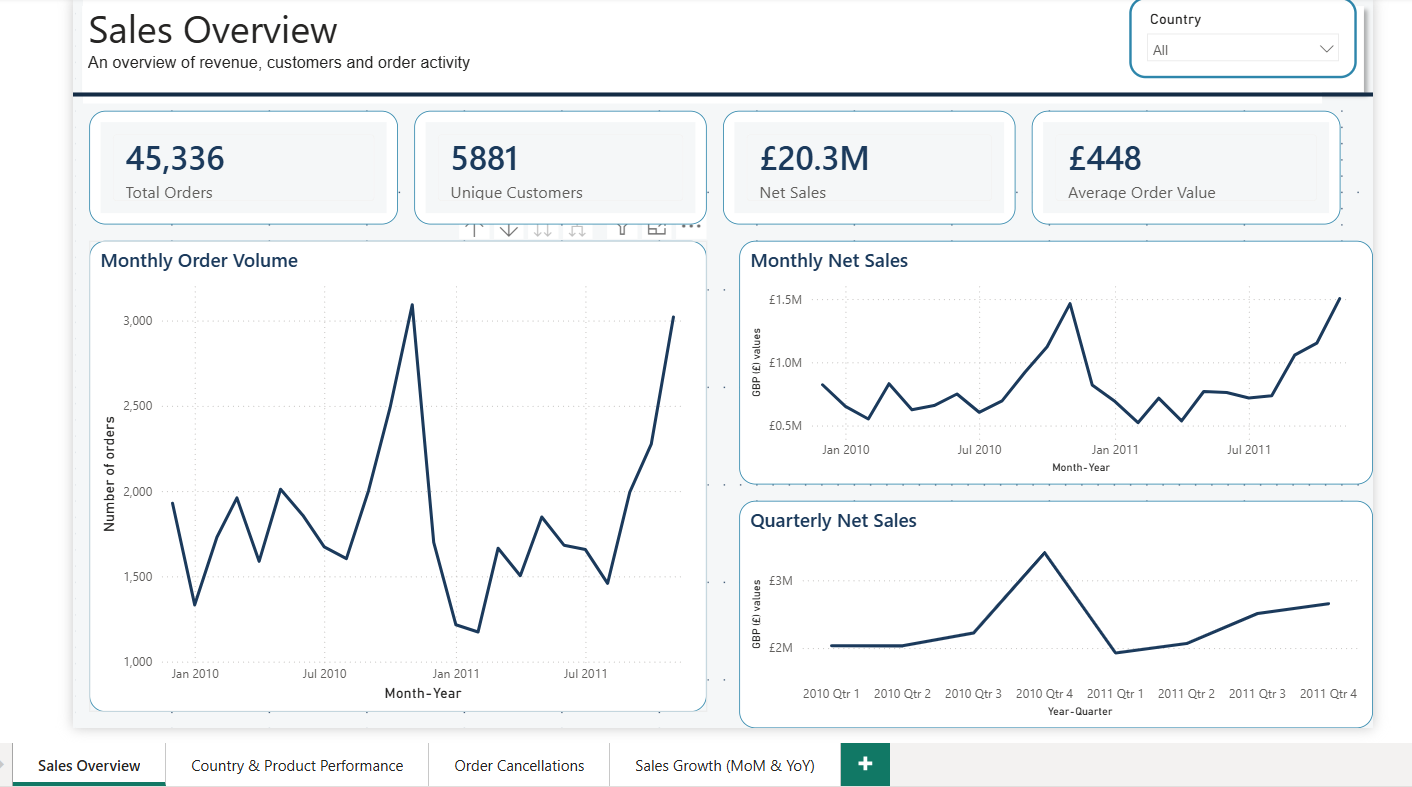

Layout of this report page (visuals, bound fields, positions):
{"tool":"powerbi","page":{"name":"Sales Overview","canvas":[1280,720],"ordinal":0},"visuals":[{"type":"cardVisual","fields":{"Data":["cleaned_excl_cancelled_orders.total_number_of_orders"]},"box":[16,112,304,112],"z":0},{"type":"lineChart","title":"Monthly Order Volume","fields":{"Y":["cleaned_excl_cancelled_orders.total_number_of_orders"],"Category":["cleaned_excl_cancelled_orders.month-year.Variation.Date Hierarchy.Year","cleaned_excl_cancelled_orders.month-year.Variation.Date Hierarchy.Month"]},"box":[16,240,608,464],"z":1000},{"type":"cardVisual","fields":{"Data":["cleaned_excl_cancelled_orders.total_number_of_customers"]},"box":[336,112,288,112],"z":2000},{"type":"cardVisual","fields":{"Data":["cleaned_excl_cancelled_orders.net_sales"]},"box":[640,112,288,112],"z":3000},{"type":"lineChart","title":"Monthly Net Sales","fields":{"Y":["cleaned_excl_cancelled_orders.net_sales"],"Category":["cleaned_excl_cancelled_orders.year.Variation.Date Hierarchy.Year","cleaned_excl_cancelled_orders.year.Variation.Date Hierarchy.Month"]},"box":[656,240,624,240],"z":4000},{"type":"lineChart","title":"Quarterly Net Sales","fields":{"Y":["cleaned_excl_cancelled_orders.net_sales"],"Category":["cleaned_excl_cancelled_orders.year.Variation.Date Hierarchy.Year","cleaned_excl_cancelled_orders.year.Variation.Date Hierarchy.Quarter"]},"box":[656,496,624,224],"z":5000},{"type":"cardVisual","fields":{"Data":["cleaned_excl_cancelled_orders.average_sales_per_order"]},"box":[944,112,304,112],"z":6000},{"type":"shape","box":[0,0,1280,103],"z":7000},{"type":"textbox","box":[10,50,1220,54],"z":8000},{"type":"textbox","box":[10,0,1220,54.1],"z":9000},{"type":"slicer","fields":{"Values":["cleaned_excl_cancelled_orders.country"]},"box":[1040,0,224,80],"z":10000},{"type":"shape","box":[0,64,1280,64],"z":11000}]}

Visuals, with their boxes on the page's 1280x720 design canvas (x1, y1, x2, y2). These are canvas units, not pixel positions in the 1412x787 screenshot, which may show the page scaled, cropped or inside an application window:
cardVisual - cleaned_excl_cancelled_orders.total_number_of_orders: rect(16, 112, 320, 224)
"Monthly Order Volume" lineChart: rect(16, 240, 624, 704)
cardVisual - cleaned_excl_cancelled_orders.total_number_of_customers: rect(336, 112, 624, 224)
cardVisual - cleaned_excl_cancelled_orders.net_sales: rect(640, 112, 928, 224)
"Monthly Net Sales" lineChart: rect(656, 240, 1280, 480)
"Quarterly Net Sales" lineChart: rect(656, 496, 1280, 720)
cardVisual - cleaned_excl_cancelled_orders.average_sales_per_order: rect(944, 112, 1248, 224)
shape: rect(0, 0, 1280, 103)
textbox: rect(10, 50, 1230, 104)
textbox: rect(10, 0, 1230, 54)
slicer - cleaned_excl_cancelled_orders.country: rect(1040, 0, 1264, 80)
shape: rect(0, 64, 1280, 128)
